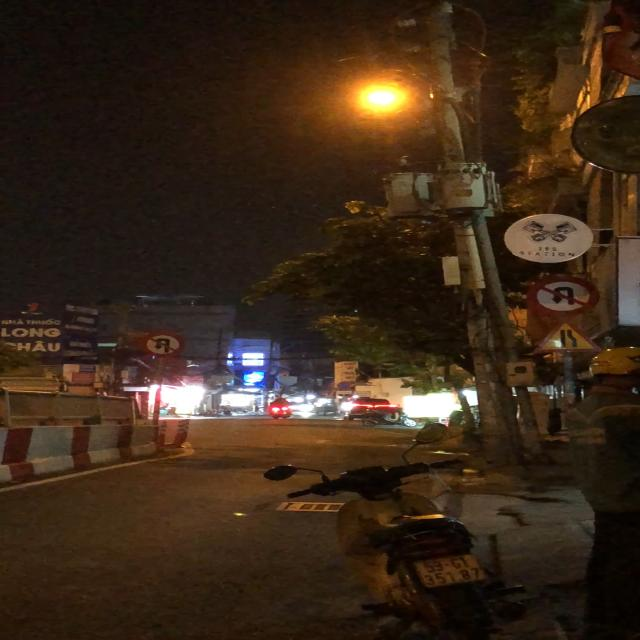Bien bao cam quay dau xe: (522, 270, 606, 316), (139, 330, 190, 358)
Bien bao duong bi thu hep: (524, 316, 604, 354)
